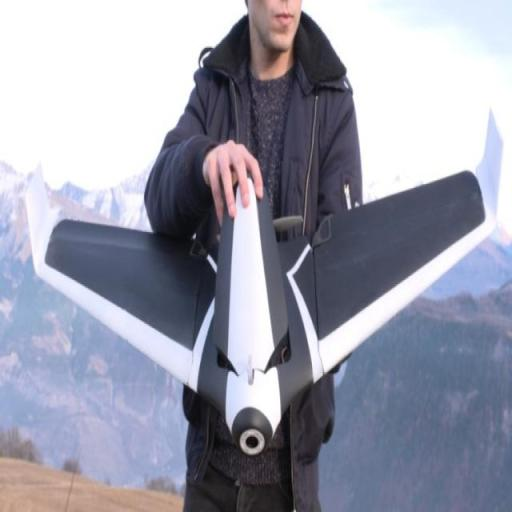uav: (20, 156, 498, 466)
